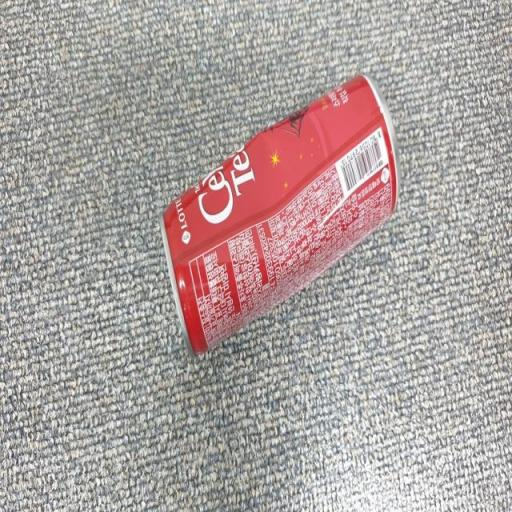metal: (148, 56, 408, 366)
